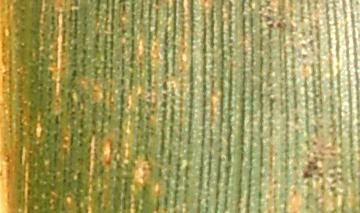tarspot: (302, 153, 319, 180), (275, 19, 283, 30), (267, 21, 274, 30)
